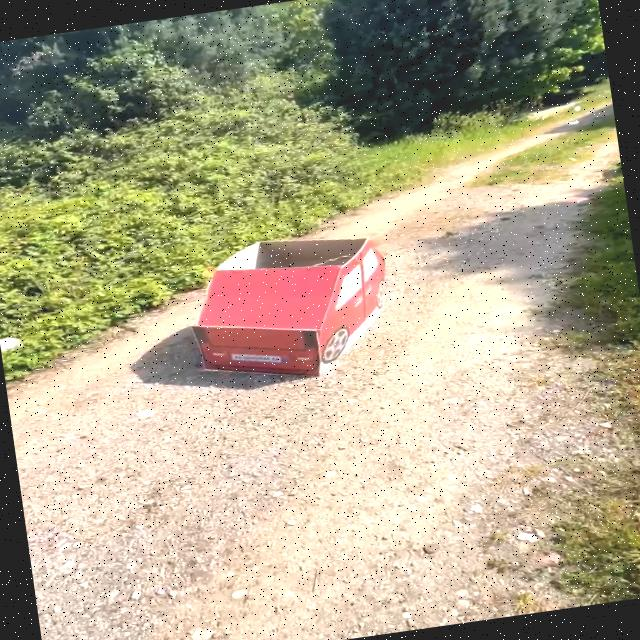red_car: (159, 224, 411, 401)
